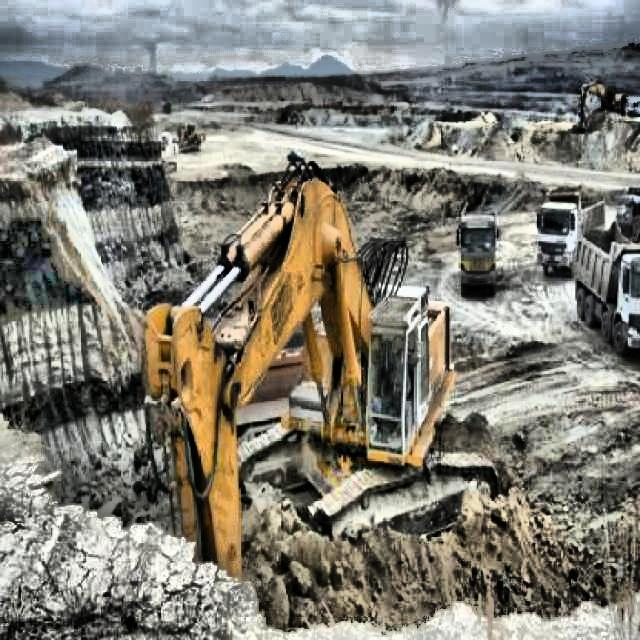dump_truck: (577, 226, 640, 362), (538, 186, 608, 272), (457, 210, 497, 292)
excavator: (142, 147, 500, 584), (578, 80, 626, 132)
